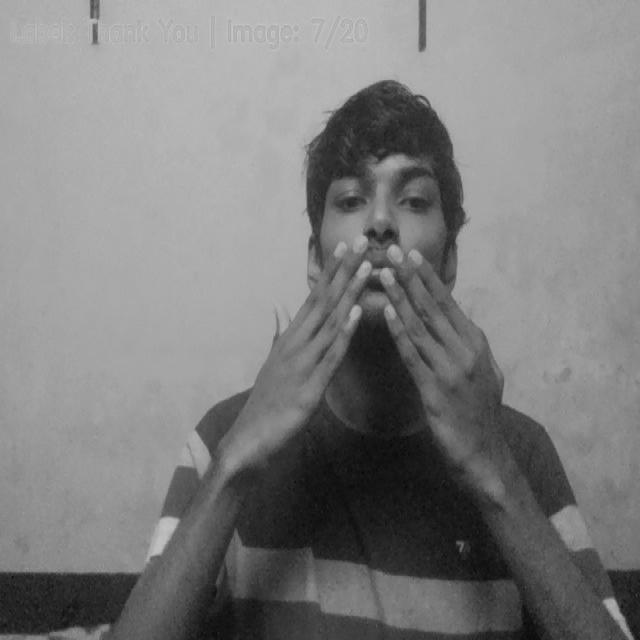Thank You: (240, 234, 512, 485)
